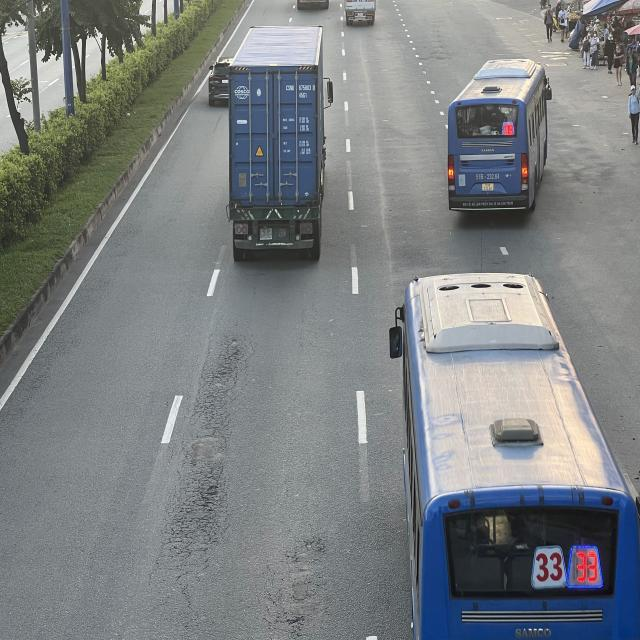coach: (391, 272, 638, 640), (448, 56, 554, 216)
container: (229, 26, 332, 266)
